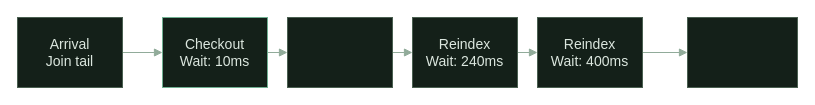
The diagram is 815 pixels wide and 105 high, and some of its shapes have lost their labels. Each missing label, with the centre of its shape:
Handler Serve head: the point at 742,52
Reindex Wait: 120ms: the point at 339,52
